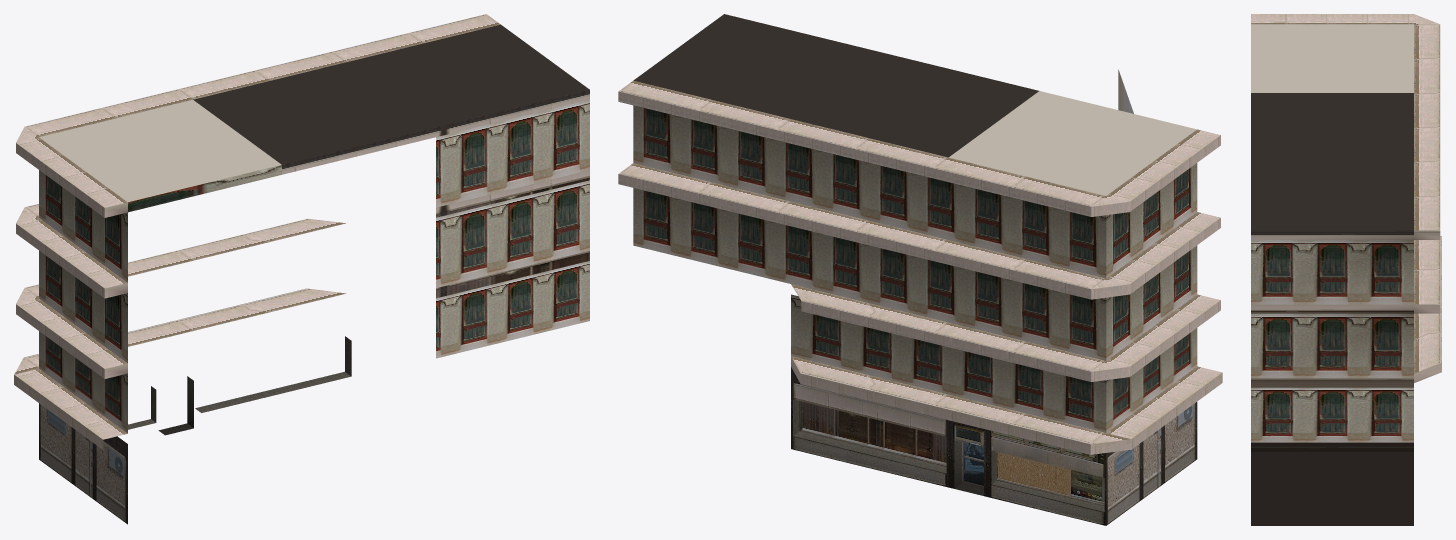
The model's file is M2Zone3_LShapeBlock.glb.
3 renders of one model, left to right at view 1: azimuth 30°, elevation 25°; view 2: azimuth 150°, elevation 25°; view 3: azimuth 270°, elevation 25°, orthographic. The views are drawn at different scales.
Visible parts, largest first — view 1: M2ZONE3_LSHAPEBLOCK; view 2: M2ZONE3_LSHAPEBLOCK; view 3: M2ZONE3_LSHAPEBLOCK.
Boxes of the visible parts, box(x1,y1,x2,y2) form: M2ZONE3_LSHAPEBLOCK: box(14, 14, 589, 524); M2ZONE3_LSHAPEBLOCK: box(618, 14, 1222, 525); M2ZONE3_LSHAPEBLOCK: box(1251, 14, 1441, 525).
Size of the model in its own units: 25.28 by 19 by 9.37.
Materials: 6 (6 with a texture image).
